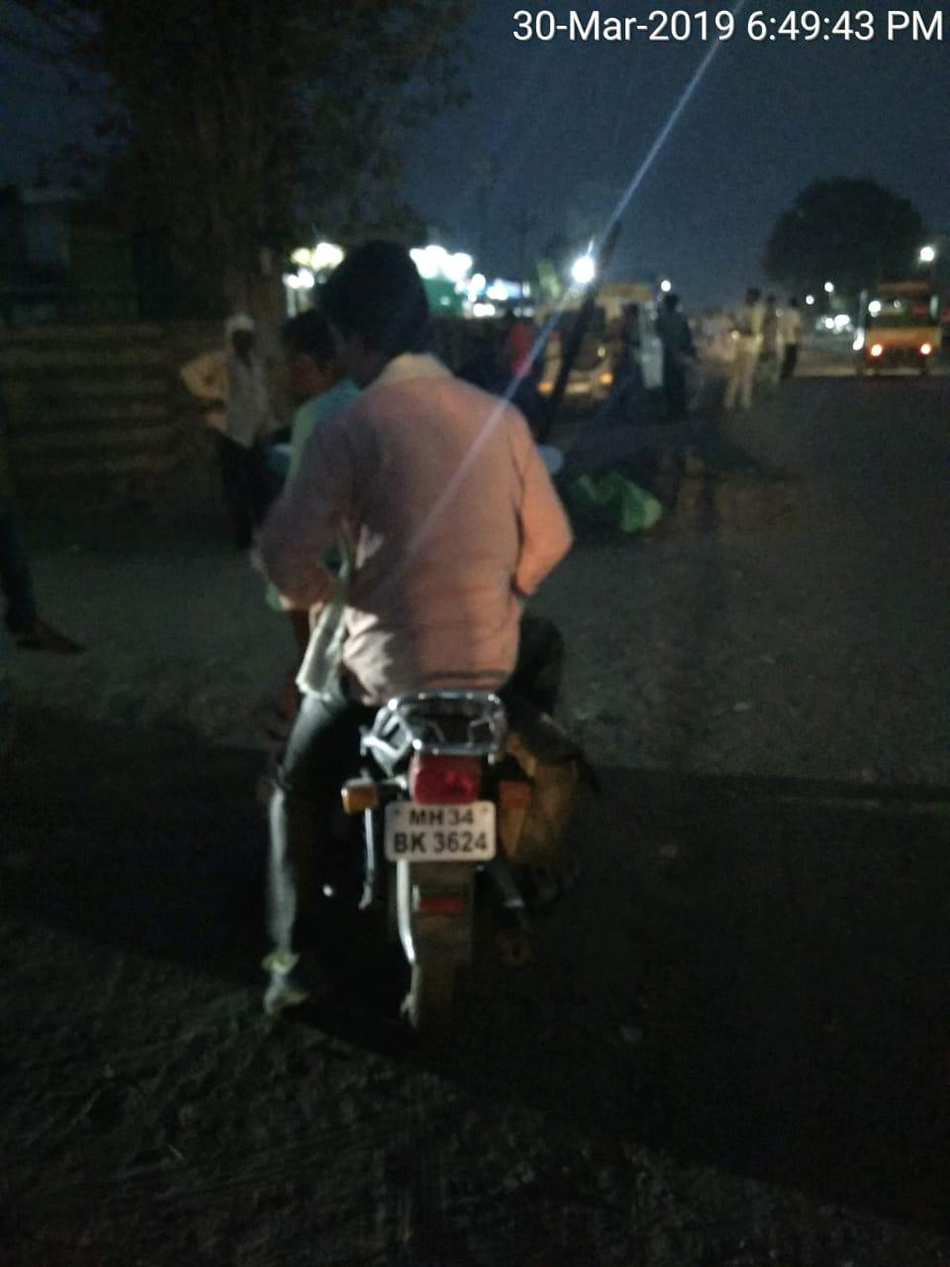plate: (368, 780, 530, 887)
